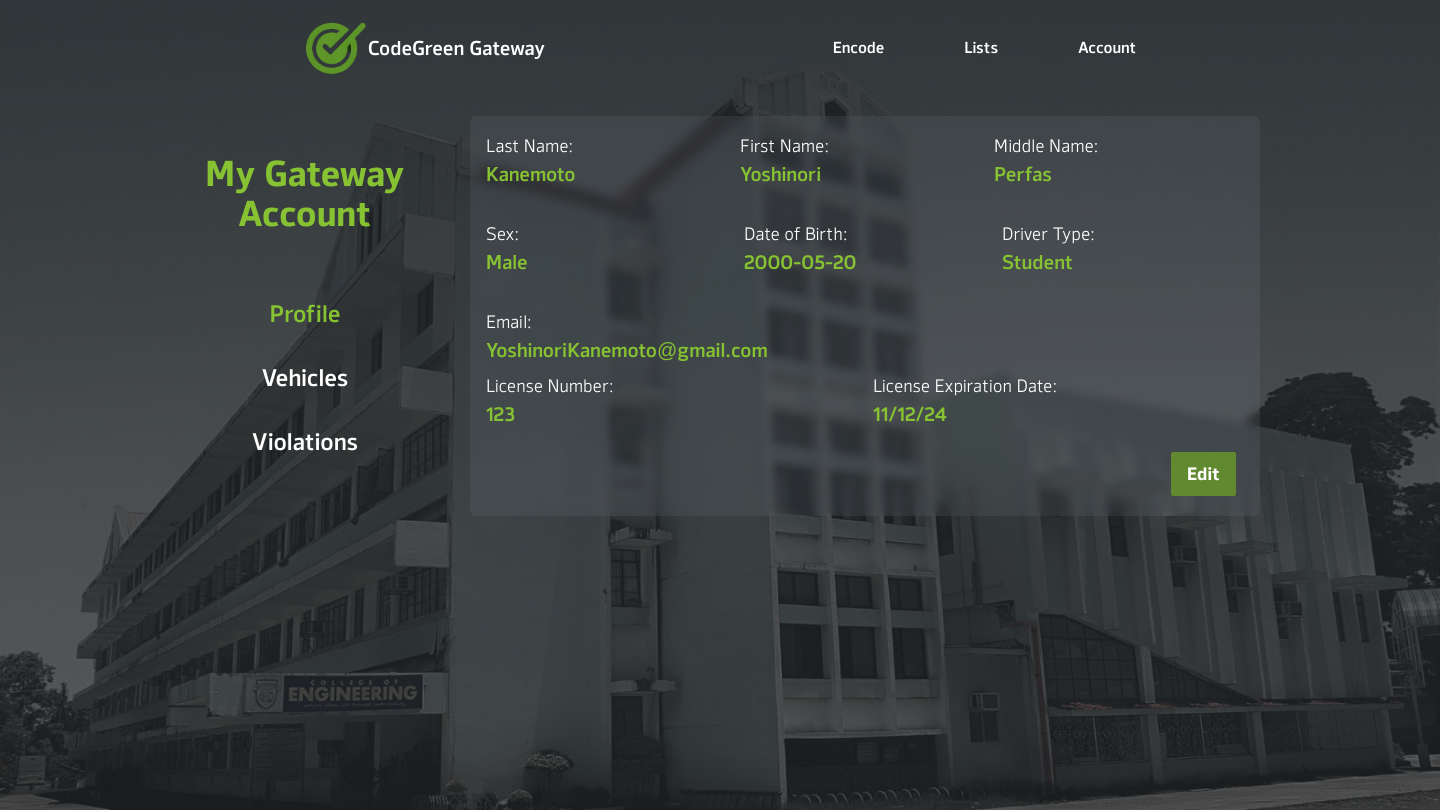
ViewProfile Component › should render the vehicle list correctly
Click the button with test id "vehicle-button" at (305, 378), box [262,362,348,394]
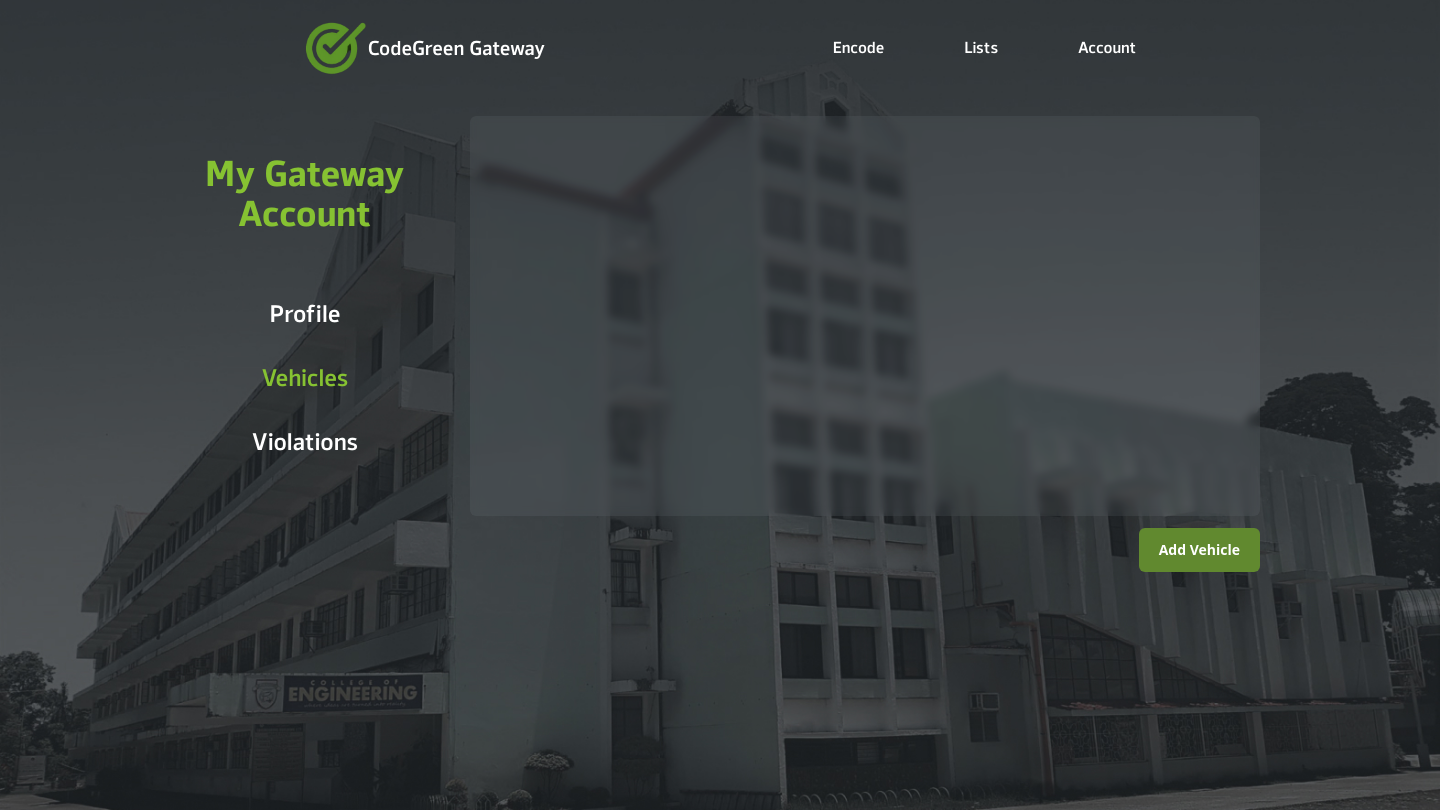
Check: the element with test id "vehichlelist" is shown, box [470,116,1260,516]
